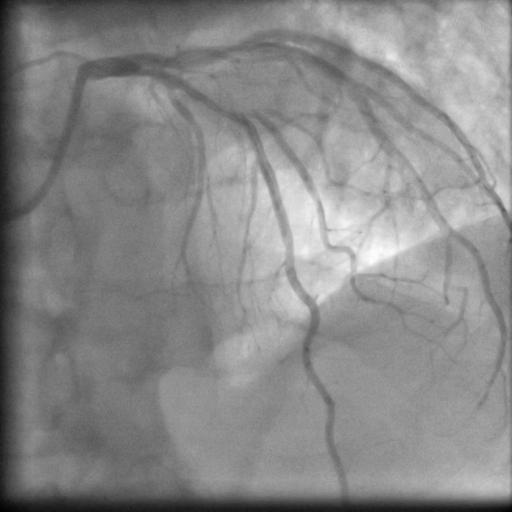Stenosis: (187, 85, 239, 117)
